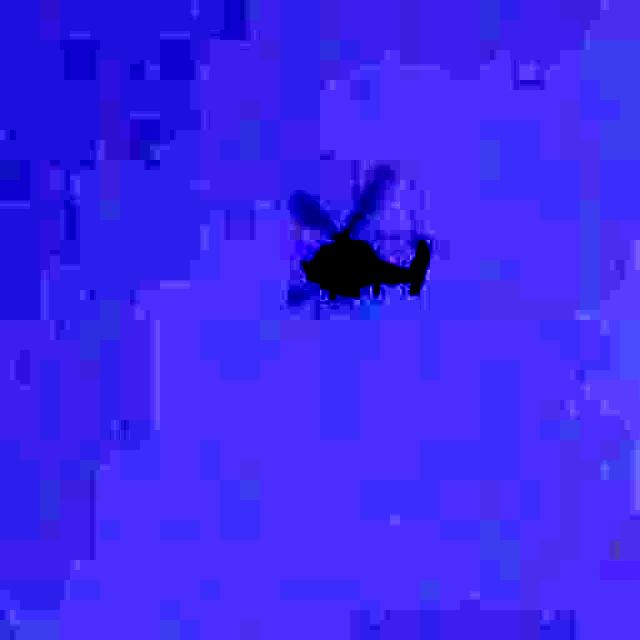drone: (278, 170, 444, 344)
